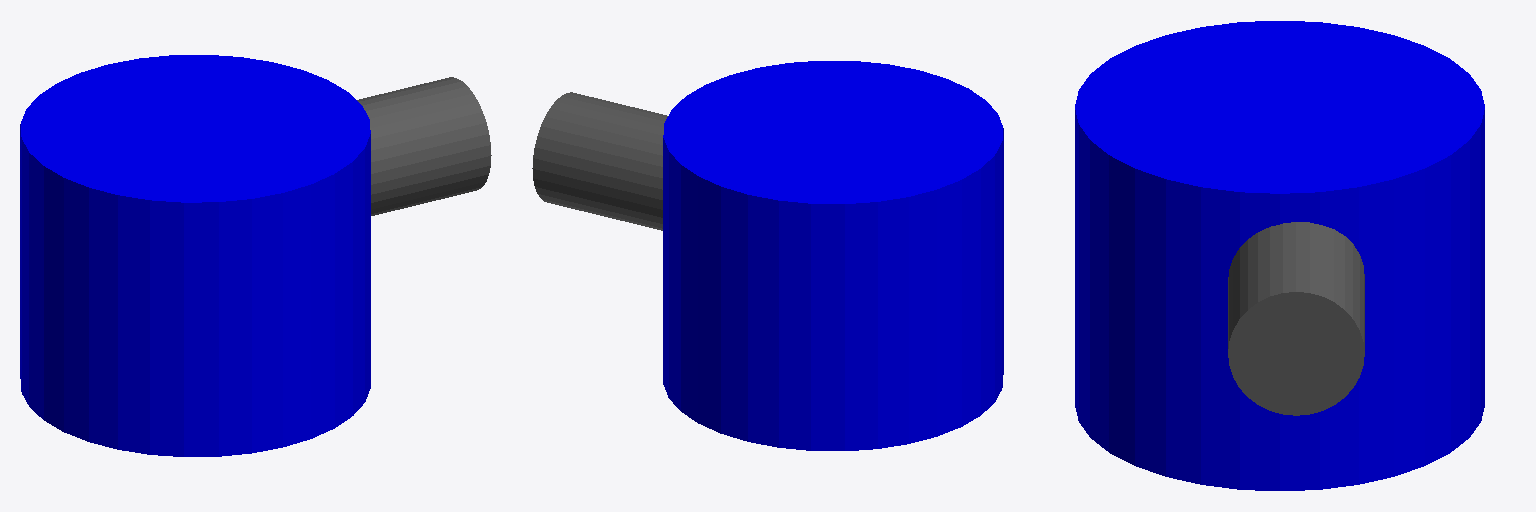
robot.urdf — jackal:
<?xml version="1.0" encoding="utf-8"?>

<robot name="jackal">

  <material name="light_grey">
    <color rgba="0.4 0.4 0.4 1.0"/>
  </material>
  <material name="black">
    <color rgba="0.15 0.15 0.15 1.0"/>
  </material>
  <material name="blue">
    <color rgba="0.0 0.0 1.0 1.0"/>
  </material>

  <link name="base_link">
    <inertial>
      <origin rpy="0 0 0" xyz="0.0  0.0 0.0"/>
      <mass value="0.01"/>
      <inertia ixx="0.01" iyy="0.01" izz="0.01"/>
    </inertial>
  </link>
  <joint name="base_link_joint" type="fixed">
    <origin rpy="0 0 0" xyz="0 0 0"/>
    <parent link="base_link"/>
    <child link="chassis_link"/>
  </joint>

  <link name="chassis_link">
    <visual>
      <origin rpy="1.57079632679 0 1.57079632679" xyz="0 0 -0.0655"/>
      <geometry>
        <mesh filename="./jackal_meshes/jackal-base.stl" scale=".76 .76 .76"/>
      </geometry>
      <material name="light_grey"/>
    </visual>
    <collision>
      <origin xyz="0 0 0.092"/>
      <geometry>
        <box size="0.32 0.24 0.15"/>
      </geometry>
    </collision>
    <inertial>
      <origin rpy="0 0 0" xyz="0.012  0.002 0.067"/>
      <mass value="3.0"/>
      <inertia ixx="0.3136" ixy="-0.0008" ixz="0.0164" iyy="0.3922" iyz="-0.0009" izz="0.4485"/>
    </inertial>
  </link>

  <link name="front_left_wheel_link">
    <visual>
      <origin rpy="1.57079632679 0 0" xyz="0 -0.04 0"/>
      <geometry>
        <mesh filename="./jackal_meshes/jackal-wheel.stl" scale=".76 .76 .76"/>
      </geometry>
      <material name="black"/>
    </visual>
    <collision>
      <origin rpy="1.57079632679 0 0" xyz="0 -0.04 0"/>
      <geometry>
        <cylinder length="0.04" radius="0.07448"/>
      </geometry>
    </collision>
    <inertial>
      <origin rpy="0 0 0" xyz="0 0 0"/>
      <mass value="0.1"/>
      <inertia ixx="0.0013" ixy="0" ixz="0" iyy="0.0024" iyz="0" izz="0.0013"/>
    </inertial>
  </link>
  <joint name="front_left_wheel" type="continuous">
    <parent link="chassis_link"/>
    <child link="front_left_wheel_link"/>
    <origin rpy="0 0 0" xyz="0.131 0.187795 0.0345"/>
    <axis xyz="0 1 0"/>
  </joint>

  <link name="front_right_wheel_link">
    <visual>
      <origin rpy="1.57079632679 0 0" xyz="0 0.04 0"/>
      <geometry>
        <mesh filename="./jackal_meshes/jackal-wheel.stl" scale=".76 .76 .76"/>
      </geometry>
      <material name="black"/>
    </visual>
    <collision>
      <origin rpy="1.57079632679 0 0" xyz="0 0.04 0"/>
      <geometry>
        <cylinder length="0.04" radius="0.07448"/>
      </geometry>
    </collision>
    <inertial>
      <origin rpy="0 0 0" xyz="0 0 0"/>
      <mass value="0.1"/>
      <inertia ixx="0.0013" ixy="0" ixz="0" iyy="0.0024" iyz="0" izz="0.0013"/>
    </inertial>
  </link>
  <joint name="front_right_wheel" type="continuous">
    <parent link="chassis_link"/>
    <child link="front_right_wheel_link"/>
    <origin rpy="0 0 0" xyz="0.131 -0.187795 0.0345"/>
    <axis xyz="0 1 0"/>
  </joint>

  <link name="rear_left_wheel_link">
    <visual>
      <origin rpy="1.57079632679 0 0" xyz="0 -0.04 0"/>
      <geometry>
        <mesh filename="./jackal_meshes/jackal-wheel.stl" scale=".76 .76 .76"/>
      </geometry>
      <material name="black"/>
    </visual>
    <collision>
      <origin rpy="1.57079632679 0 0" xyz="0 -0.04 0"/>
      <geometry>
        <cylinder length="0.04" radius="0.07448"/>
      </geometry>
    </collision>
    <inertial>
      <origin rpy="0 0 0" xyz="0 0 0"/>
      <mass value="0.1"/>
      <inertia ixx="0.0013" ixy="0" ixz="0" iyy="0.0024" iyz="0" izz="0.0013"/>
    </inertial>
  </link>
  <joint name="rear_left_wheel" type="continuous">
    <parent link="chassis_link"/>
    <child link="rear_left_wheel_link"/>
    <origin rpy="0 0 0" xyz="-0.131 0.187795 0.0345"/>
    <axis xyz="0 1 0"/>
  </joint>

  <link name="rear_right_wheel_link">
    <visual>
      <origin rpy="1.57079632679 0 0" xyz="0 0.04 0"/>
      <geometry>
        <mesh filename="./jackal_meshes/jackal-wheel.stl" scale=".76 .76 .76"/>
      </geometry>
      <material name="black"/>
    </visual>
    <collision>
      <origin rpy="1.57079632679 0 0" xyz="0 0.04 0"/>
      <geometry>
        <cylinder length="0.04" radius="0.07448"/>
      </geometry>
    </collision>
    <inertial>
      <origin rpy="0 0 0" xyz="0 0 0"/>
      <mass value="0.1"/>
      <inertia ixx="0.0013" ixy="0" ixz="0" iyy="0.0024" iyz="0" izz="0.0013"/>
    </inertial>
  </link>
  <joint name="rear_right_wheel" type="continuous">
    <parent link="chassis_link"/>
    <child link="rear_right_wheel_link"/>
    <origin rpy="0 0 0" xyz="-0.131 -0.187795 0.0345"/>
    <axis xyz="0 1 0"/>
  </joint>

  <link name="rear_fender_link">
    <visual>
      <geometry>
        <mesh filename="./jackal_meshes/jackal-fender.stl" scale=".76 .76 .76"/>
      </geometry>
      <material name="blue"/>
    </visual>
    <inertial>
      <origin rpy="0 0 0" xyz="0.0  0.0 0.0"/>
      <mass value="0.0"/>
      <inertia ixx="0.0" iyy="0.0" izz="0.0"/>
    </inertial>
  </link>
  <joint name="rear_fender_joint" type="fixed">
    <origin rpy="0 0 3.14159265359" xyz="0 0 0"/>
    <parent link="chassis_link"/>
    <child link="rear_fender_link"/>
  </joint>

  <link name="imu_link">
    <inertial>
      <mass value="0.001"/>
      <origin rpy="0 0 0" xyz="0 0 0"/>
      <inertia ixx="1e-09" ixy="0.0" ixz="0.0" iyy="1e-09" iyz="0.0" izz="1e-09"/>
    </inertial>
  </link>
  <joint name="imu_joint" type="fixed">
    <parent link="chassis_link"/>
    <child link="imu_link"/>
  </joint>

  <link name="turret">
    <visual>
      <geometry>
        <cylinder length="0.12" radius="0.075"/>
      </geometry>
      <origin xyz="0.16 -0.12 0.008"/>
      <material name="blue"/>
    </visual>
    <collision>
      <geometry>
        <cylinder length="0.12" radius="0.075"/>
      </geometry>
      <origin xyz="0.16 -0.12 0.008"/>
    </collision>
    <inertial>
      <origin rpy="0 0 0" xyz="0.0  0.0 0.0"/>
      <mass value="0.0"/>
      <inertia ixx="0.0" iyy="0.0" izz="0.0"/>
    </inertial>
  </link>
  <joint name="turret_joint" type="fixed">
    <parent link="chassis_link"/>
    <child link="turret"/>
    <origin xyz="-0.180 0.126 0.1815"/>
  </joint>

  <link name="cannon">
    <visual>
      <geometry>
        <cylinder length="0.1" radius="0.025"/>
      </geometry>
      <origin rpy="1.5708 0 1.5708" xyz="0.425 -0.24 -0.15"/>
      <material name="light_grey"/>
    </visual>
    <collision>
      <geometry>
        <cylinder length="0.1" radius="0.025"/>
      </geometry>
      <origin rpy="1.5708 0 1.5708" xyz="0.425 -0.24 -0.15"/>
    </collision>
    <inertial>
      <origin rpy="0 0 0" xyz="0.0  0.0 0.0"/>
      <mass value="0.0"/>
      <inertia ixx="0.0" iyy="0.0" izz="0.0"/>
    </inertial>
  </link>
  <joint name="cannon_joint" type="fixed">
    <parent link="turret"/>
    <child link="cannon"/>
    <origin xyz="-0.180 0.126 0.1815"/>
  </joint>

</robot>

--- Facts derived from the render (not from the file) ---
The picture shows the robot from 3 angles, left to right: view 1: azimuth 30°, elevation 25°; view 2: azimuth 150°, elevation 25°; view 3: azimuth 270°, elevation 25°; orthographic projection.
Model jackal with 10 links and 9 joints (4 continuous, 5 fixed), rooted at base_link, posed every joint at zero.
Links seen in each view (by area): view 1: turret, cannon; view 2: turret, cannon; view 3: turret, cannon.
Link boxes in pixels (x1,y1,x2,y2): turret: [20, 55, 370, 456]; cannon: [357, 77, 491, 215]; turret: [663, 61, 1003, 450]; cannon: [532, 92, 667, 230]; turret: [1075, 21, 1484, 490]; cannon: [1228, 222, 1364, 415].
Size in the robot's own frame: 0.21 by 0.15 by 0.12 metres.
Meshes: 3 distinct files referenced, 0 mesh visuals loaded (none loaded); not drawn: 6 (reference not matched to a file when rendering).